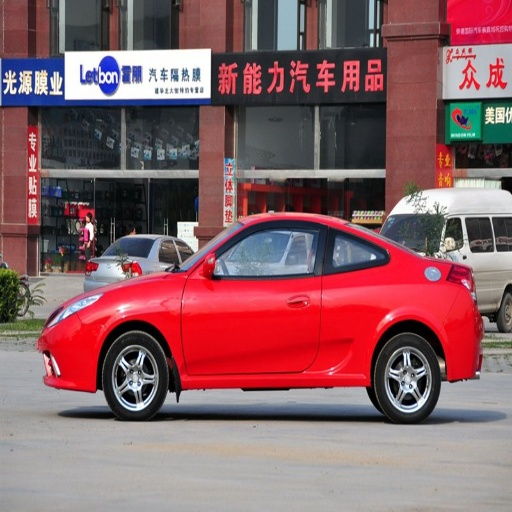back_left_door: (311, 224, 350, 309)
trunk: (332, 316, 377, 371)
